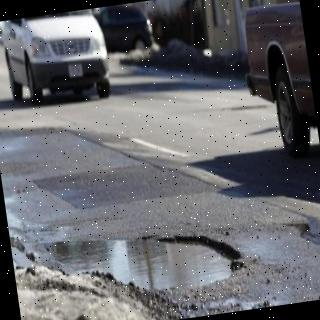pothole: (30, 235, 242, 291)
